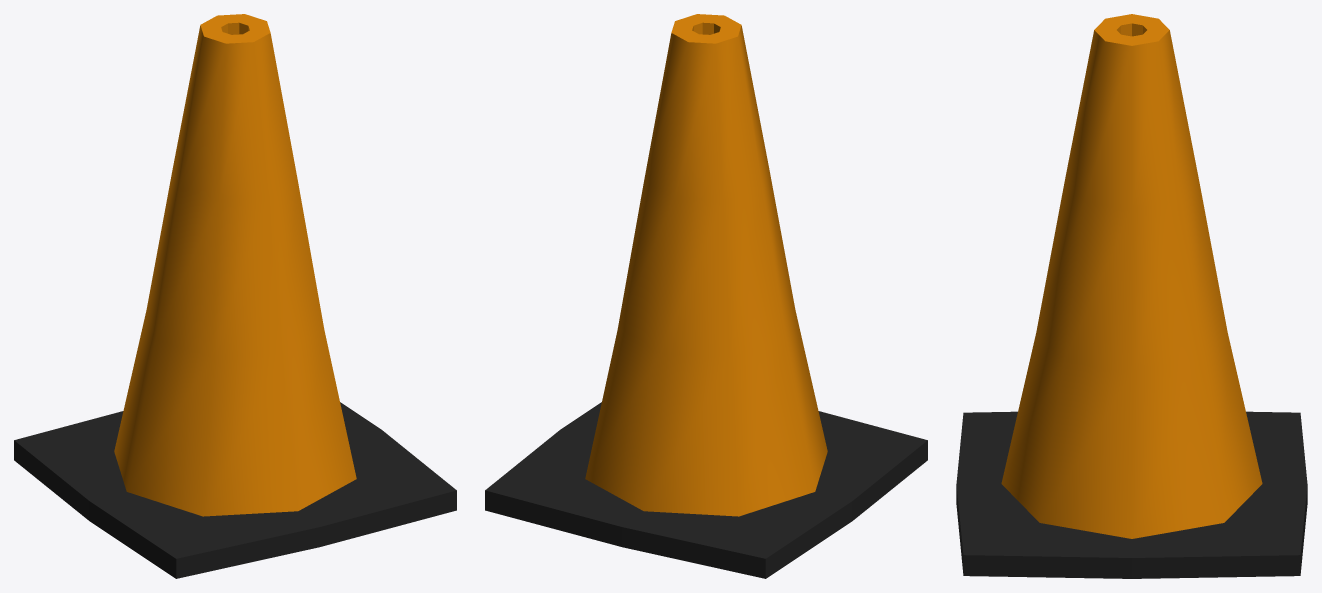
3 renders of one model, left to right at view 1: azimuth 30°, elevation 25°; view 2: azimuth 150°, elevation 25°; view 3: azimuth 270°, elevation 25°, orthographic. The views are drawn at different scales.
Parts seen in each view (by area): view 1: pCone1; view 2: pCone1; view 3: pCone1.
Part boxes in pixels (x1,y1,x2,y2): pCone1: [14, 14, 456, 578]; pCone1: [485, 14, 927, 578]; pCone1: [956, 14, 1307, 578].
Size of the model in its own units: 26.59 by 39.69 by 26.59.
